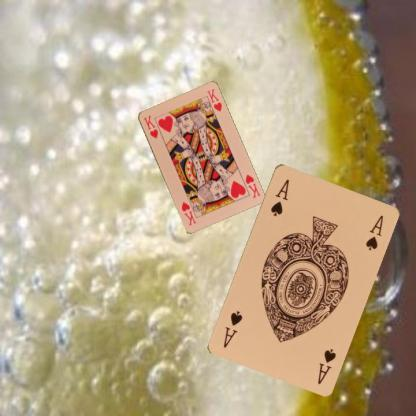As: (314, 346, 338, 386), (268, 176, 290, 217)
Kh: (140, 112, 160, 140), (242, 172, 262, 199)
